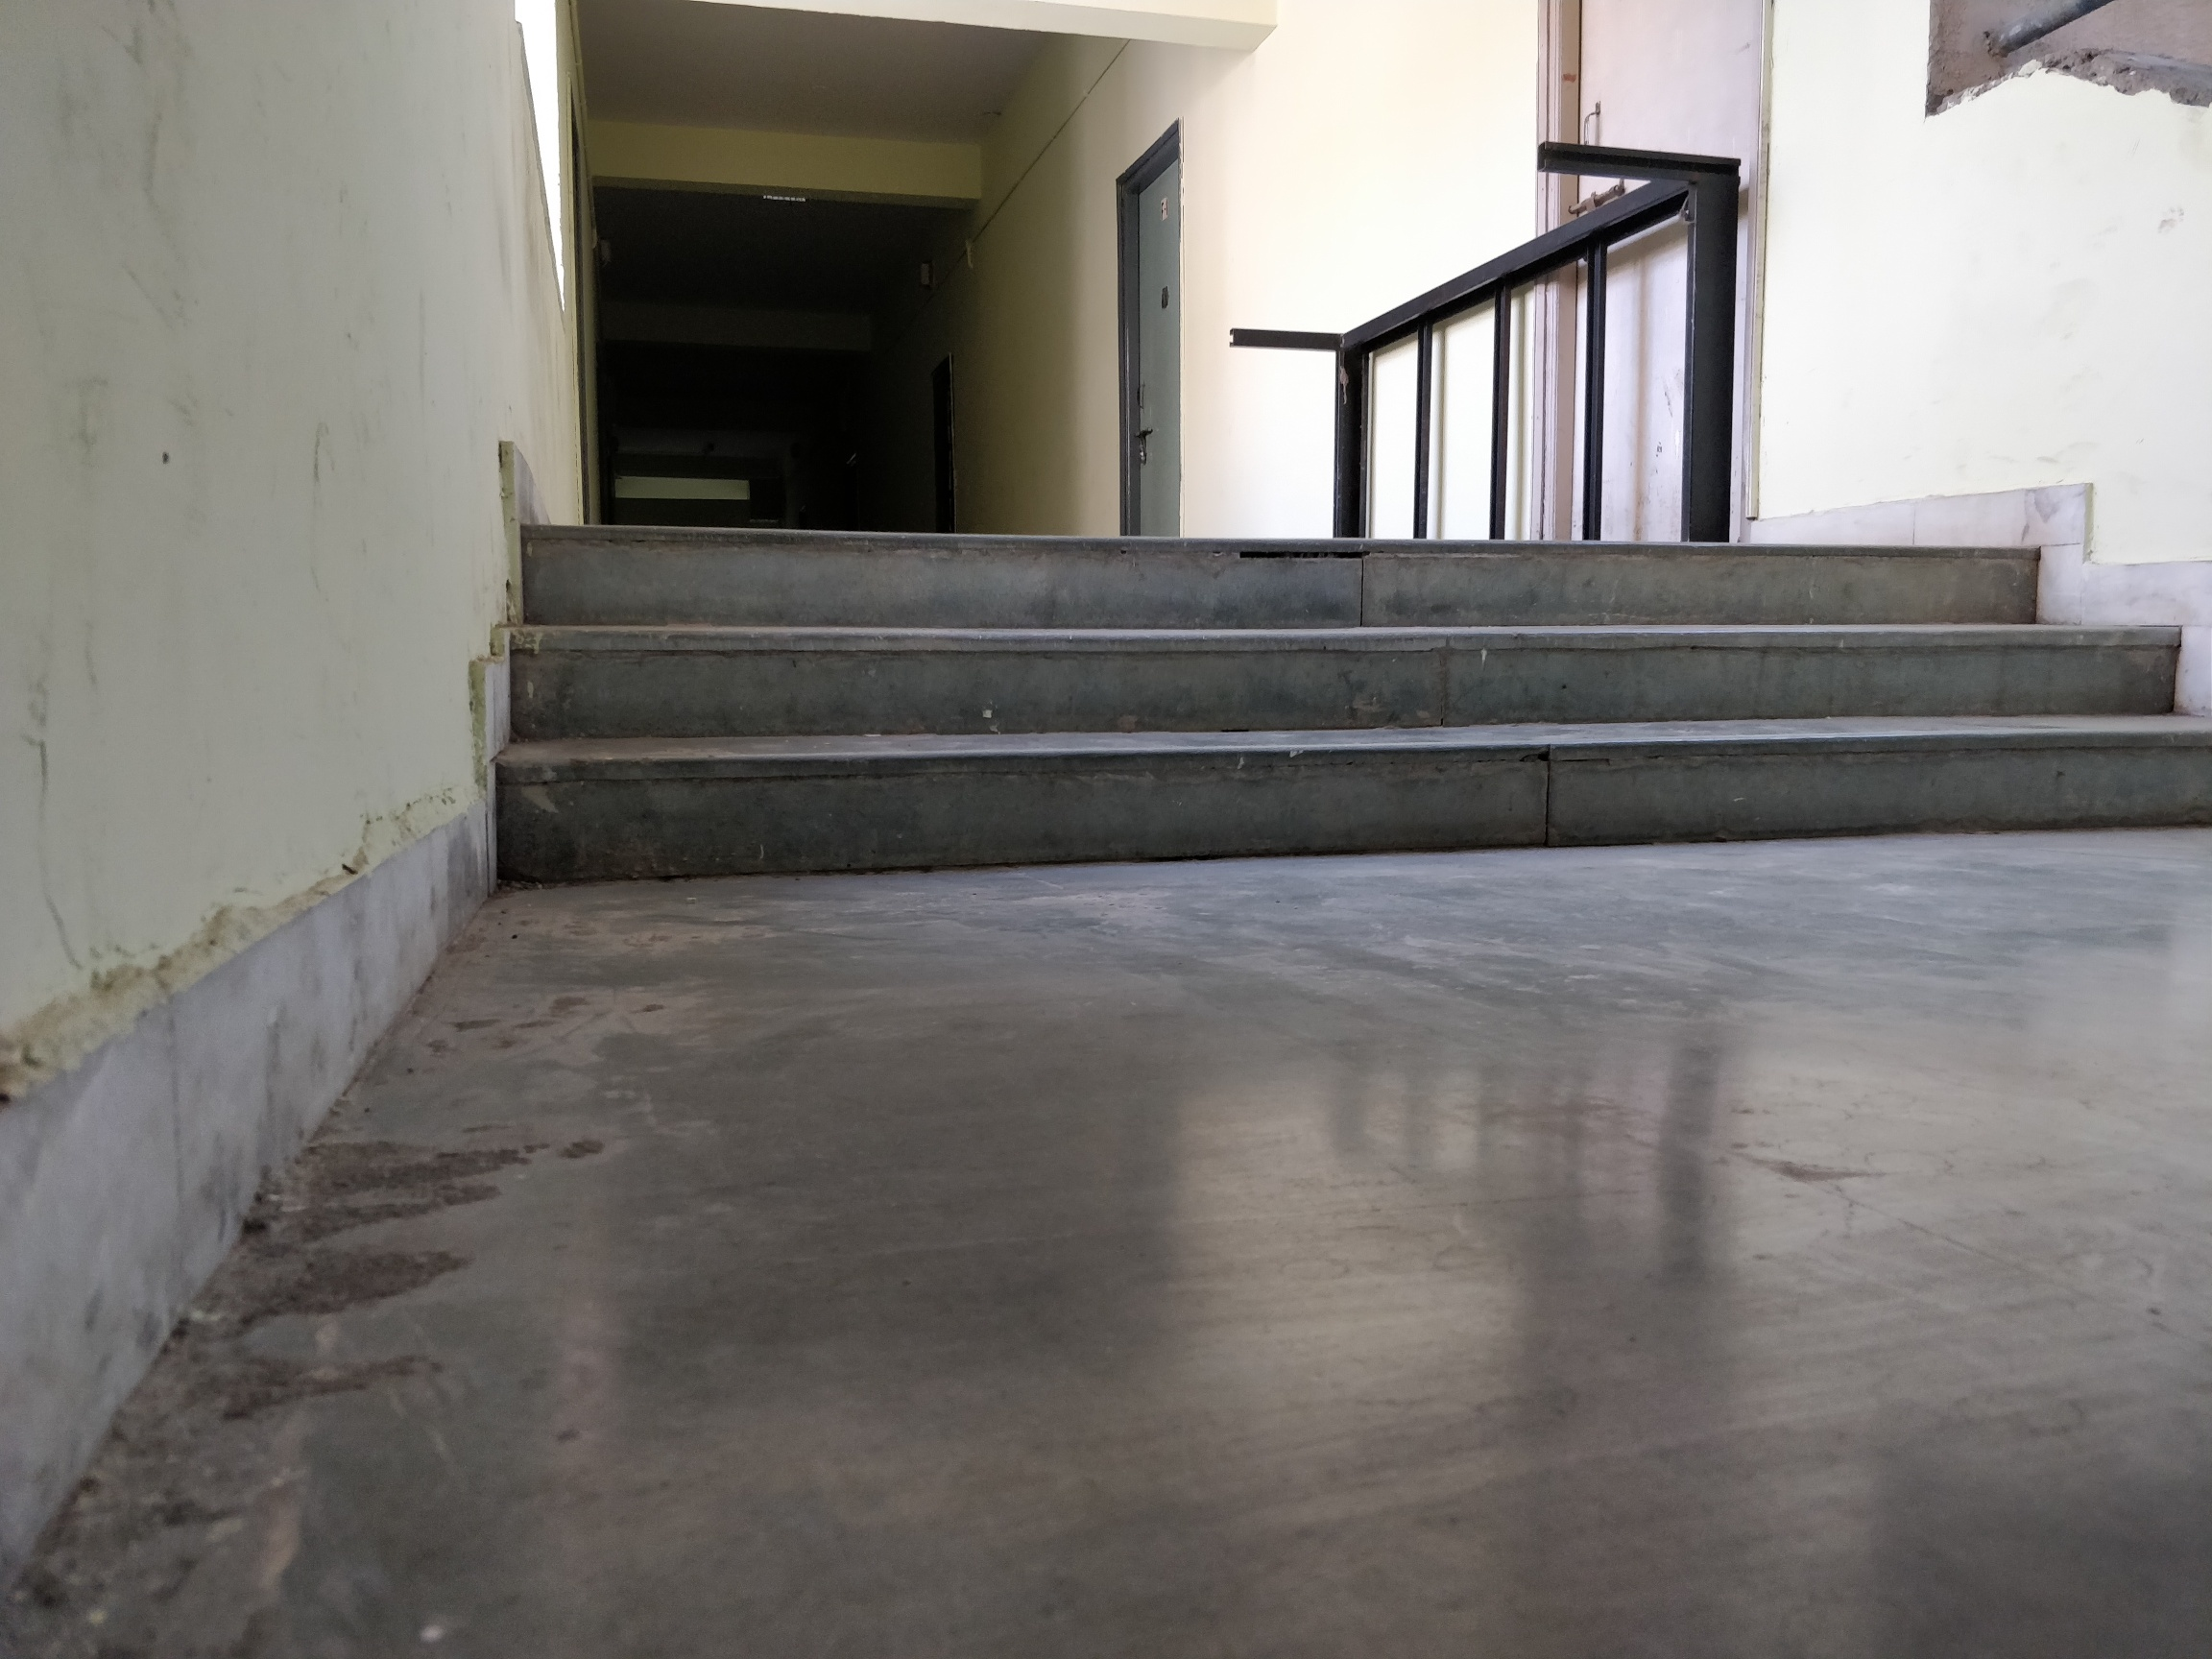stairs_up: (517, 514, 2205, 836)
